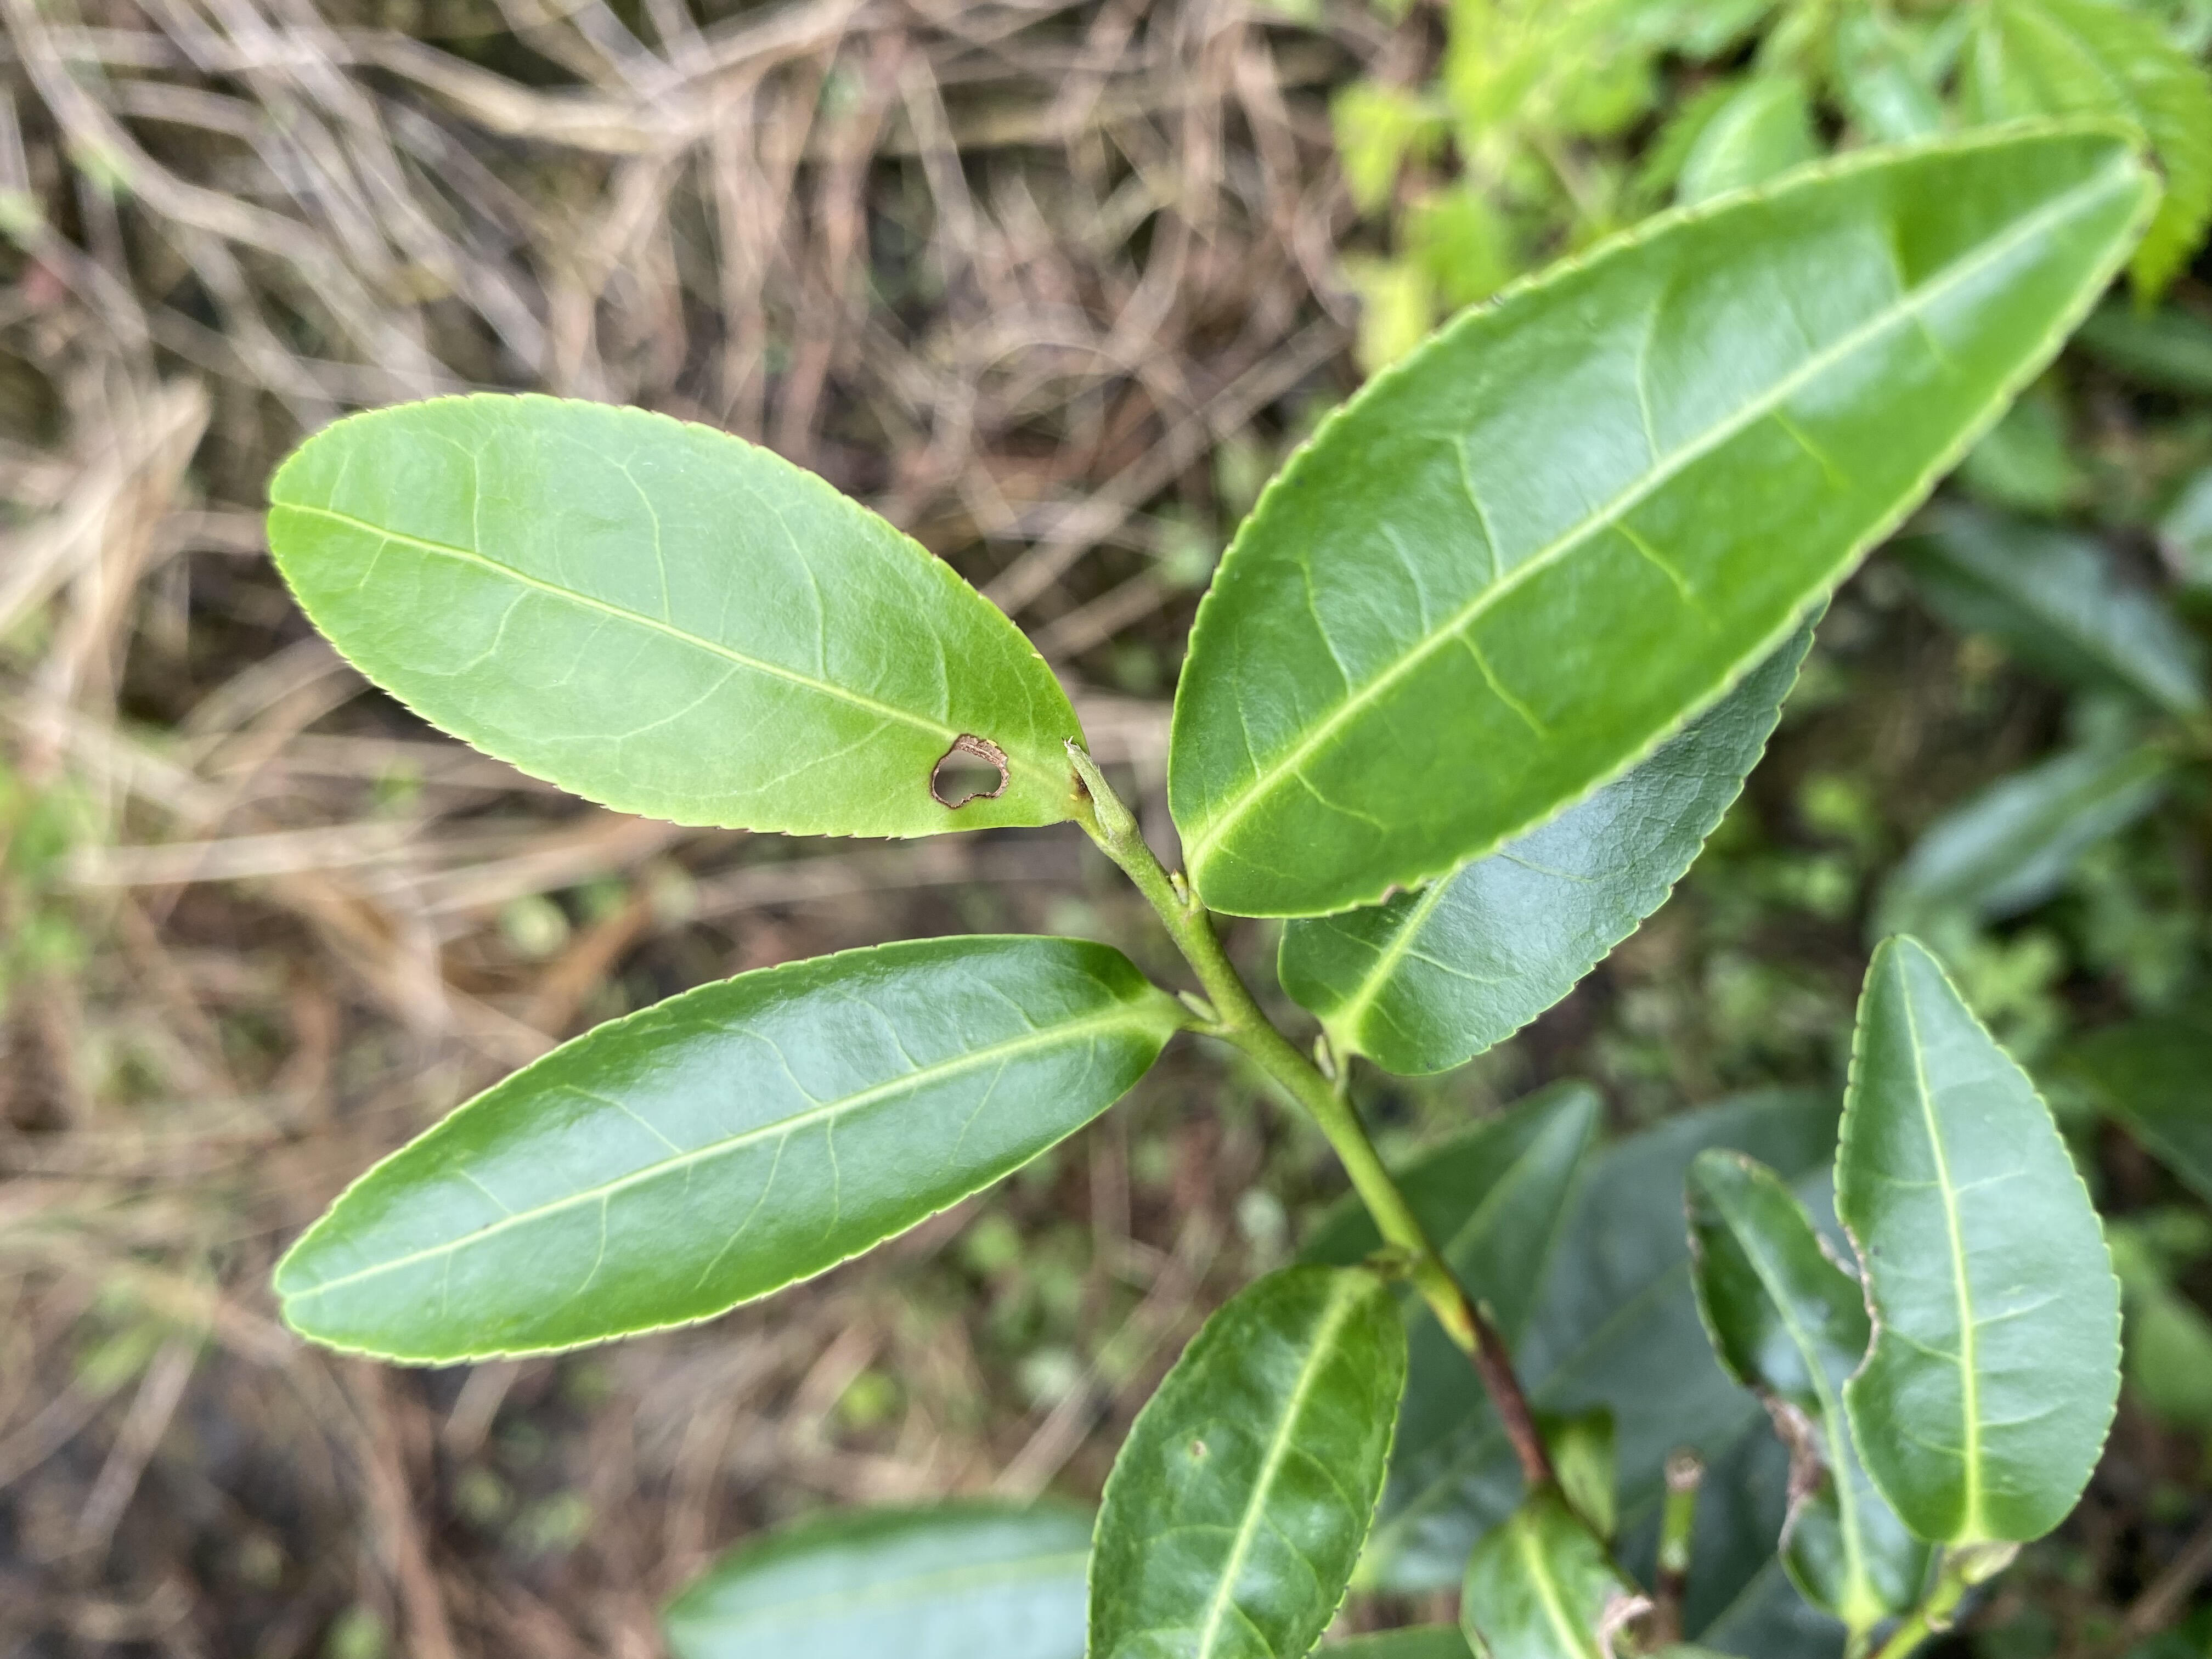chihuo_low: (263, 385, 1092, 842), (1838, 936, 2125, 1549)
healthy: (1165, 117, 2163, 925), (270, 934, 1174, 1366)
tanju_low: (1082, 1263, 1409, 1656)
